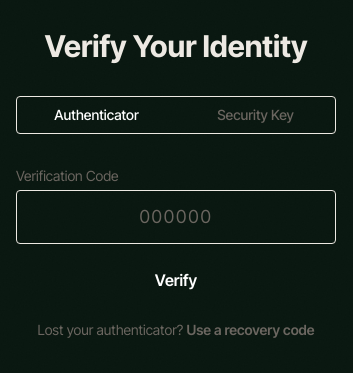
MFA Verify Page › reveals recovery code input when link is clicked
What coordinates should you click on to do the following:
click the button "Use a recovery code"
I would click on:
 (250, 330)
Its box is [186,320,315,340].
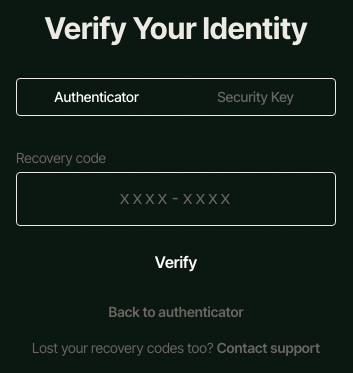
Expected: the field with placeholder "xxxx-xxxx" is shown, [16,172,336,226]
